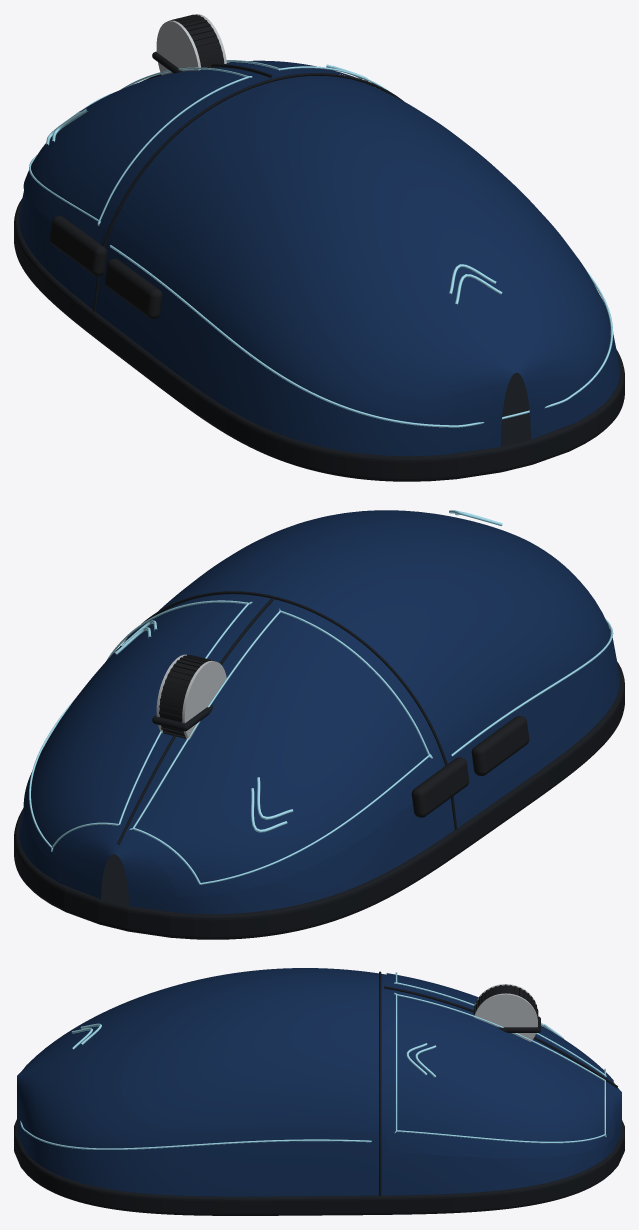
Rendered from formkey-mouse-navy.glb.
The picture shows the model from 3 angles, top to bottom: view 1: azimuth 30°, elevation 25°; view 2: azimuth 150°, elevation 25°; view 3: azimuth 270°, elevation 25°; orthographic projection. The views are drawn at different scales.
Visible parts, largest first — view 1: Sculpted upper shell, Lower chassis, Left main button, Side thumb button (×2), Painted outline (×2), Wheel silver rim, Palm and button seam, Right main button, Rubber scroll wheel; view 2: Sculpted upper shell, Left main button, Right main button, Lower chassis, Painted outline (×3), Side thumb button (×2), Wheel silver rim, Palm and button seam, Rubber scroll wheel, Split button seam; view 3: Sculpted upper shell, Right main button, Lower chassis, Painted outline (×3), Left main button, Wheel silver rim, Palm and button seam, Split button seam, Rubber scroll wheel.
Boxes of the visible parts, x1=… form: Sculpted upper shell: x1=19, y1=65, x2=619, y2=456; Lower chassis: x1=14, y1=198, x2=624, y2=481; Left main button: x1=23, y1=69, x2=262, y2=243; Side thumb button (×2): x1=49, y1=216, x2=162, y2=318; Painted outline (×2): x1=29, y1=67, x2=613, y2=427; Wheel silver rim: x1=156, y1=20, x2=200, y2=75; Palm and button seam: x1=93, y1=73, x2=403, y2=311; Right main button: x1=224, y1=60, x2=356, y2=77; Rubber scroll wheel: x1=176, y1=17, x2=223, y2=67; Sculpted upper shell: x1=19, y1=510, x2=619, y2=914; Left main button: x1=123, y1=604, x2=441, y2=896; Right main button: x1=23, y1=596, x2=262, y2=868; Lower chassis: x1=14, y1=661, x2=624, y2=939; Painted outline (×3): x1=29, y1=600, x2=613, y2=884; Side thumb button (×2): x1=411, y1=715, x2=529, y2=817; Wheel silver rim: x1=182, y1=660, x2=226, y2=739; Palm and button seam: x1=124, y1=591, x2=457, y2=830; Rubber scroll wheel: x1=159, y1=657, x2=207, y2=736; Split button seam: x1=117, y1=598, x2=273, y2=845; Sculpted upper shell: x1=17, y1=968, x2=621, y2=1196; Right main button: x1=386, y1=991, x2=613, y2=1157; Lower chassis: x1=14, y1=1119, x2=624, y2=1215; Painted outline (×3): x1=20, y1=972, x2=606, y2=1149; Left main button: x1=386, y1=973, x2=613, y2=1082; Wheel silver rim: x1=474, y1=993, x2=537, y2=1041; Palm and button seam: x1=379, y1=971, x2=381, y2=1196; Split button seam: x1=384, y1=986, x2=617, y2=1087; Rubber scroll wheel: x1=476, y1=985, x2=535, y2=1010.
Bounding box in the file's own units: 0.0663 × 0.0373 × 0.123.
